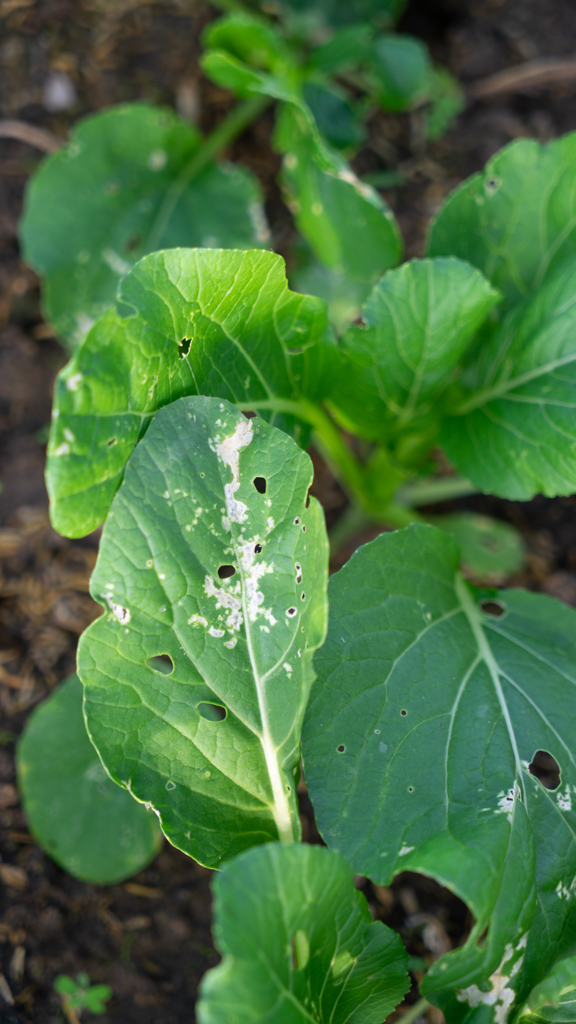Canker: (174, 413, 291, 665), (482, 745, 571, 819)
